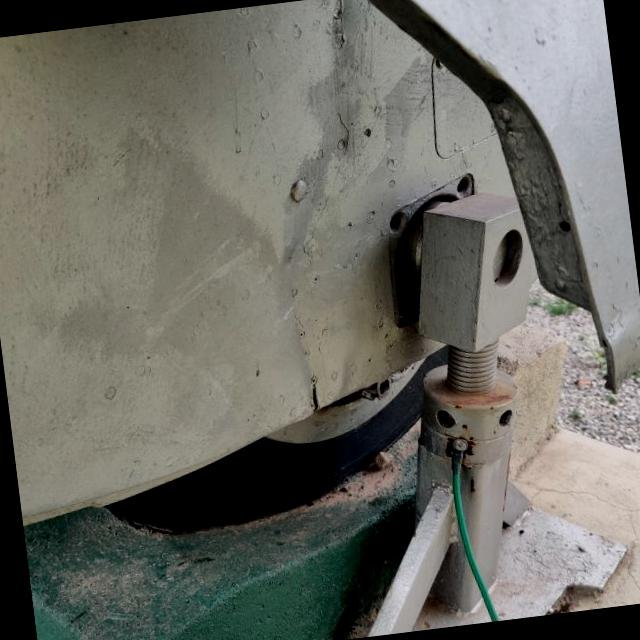crack: (292, 372, 330, 418)
